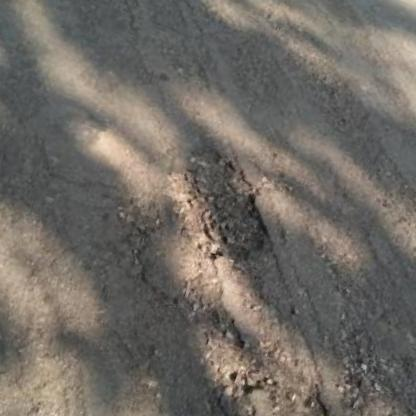pothole: (142, 133, 296, 280)
